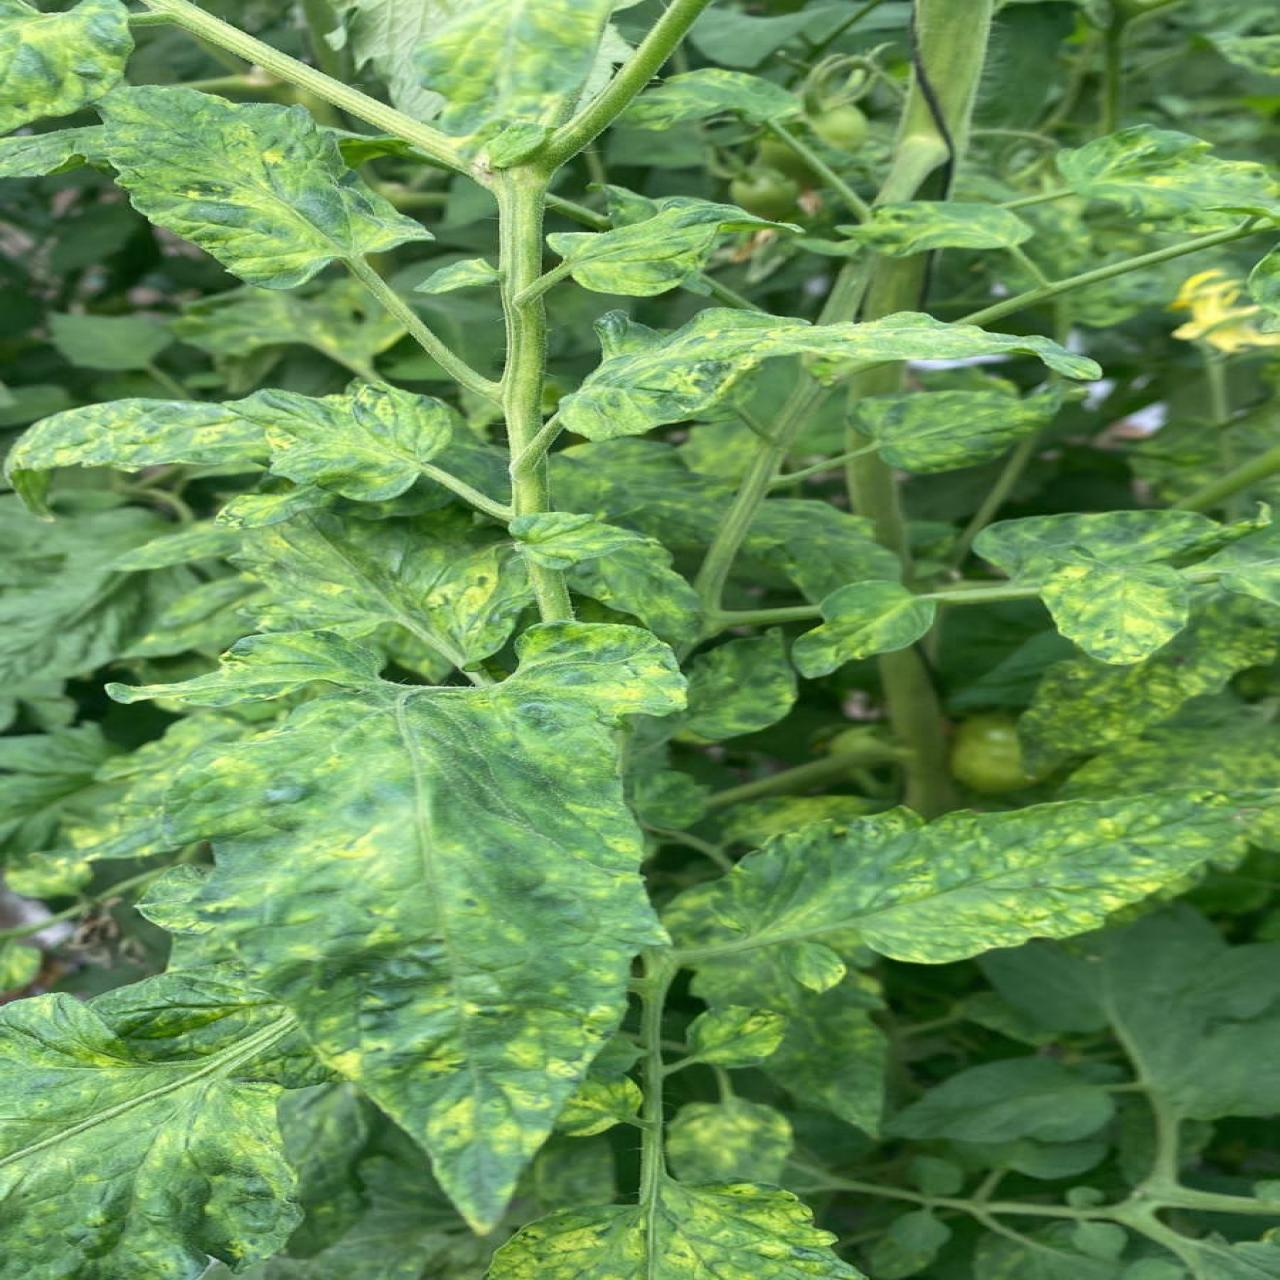T_L_R: (170, 624, 685, 1231), (697, 792, 1247, 964), (1, 996, 302, 1280), (113, 509, 535, 709), (557, 309, 1103, 441), (5, 381, 512, 519), (98, 86, 433, 291), (488, 1179, 869, 1280), (414, 1, 619, 166), (543, 199, 797, 299), (512, 515, 703, 646), (1058, 125, 1280, 226), (90, 964, 285, 1064), (4, 1, 134, 134), (1041, 554, 1189, 666), (792, 581, 939, 679), (690, 1006, 788, 1069)
T_S_R: (481, 1, 708, 515), (145, 1, 468, 169), (345, 260, 503, 404)
